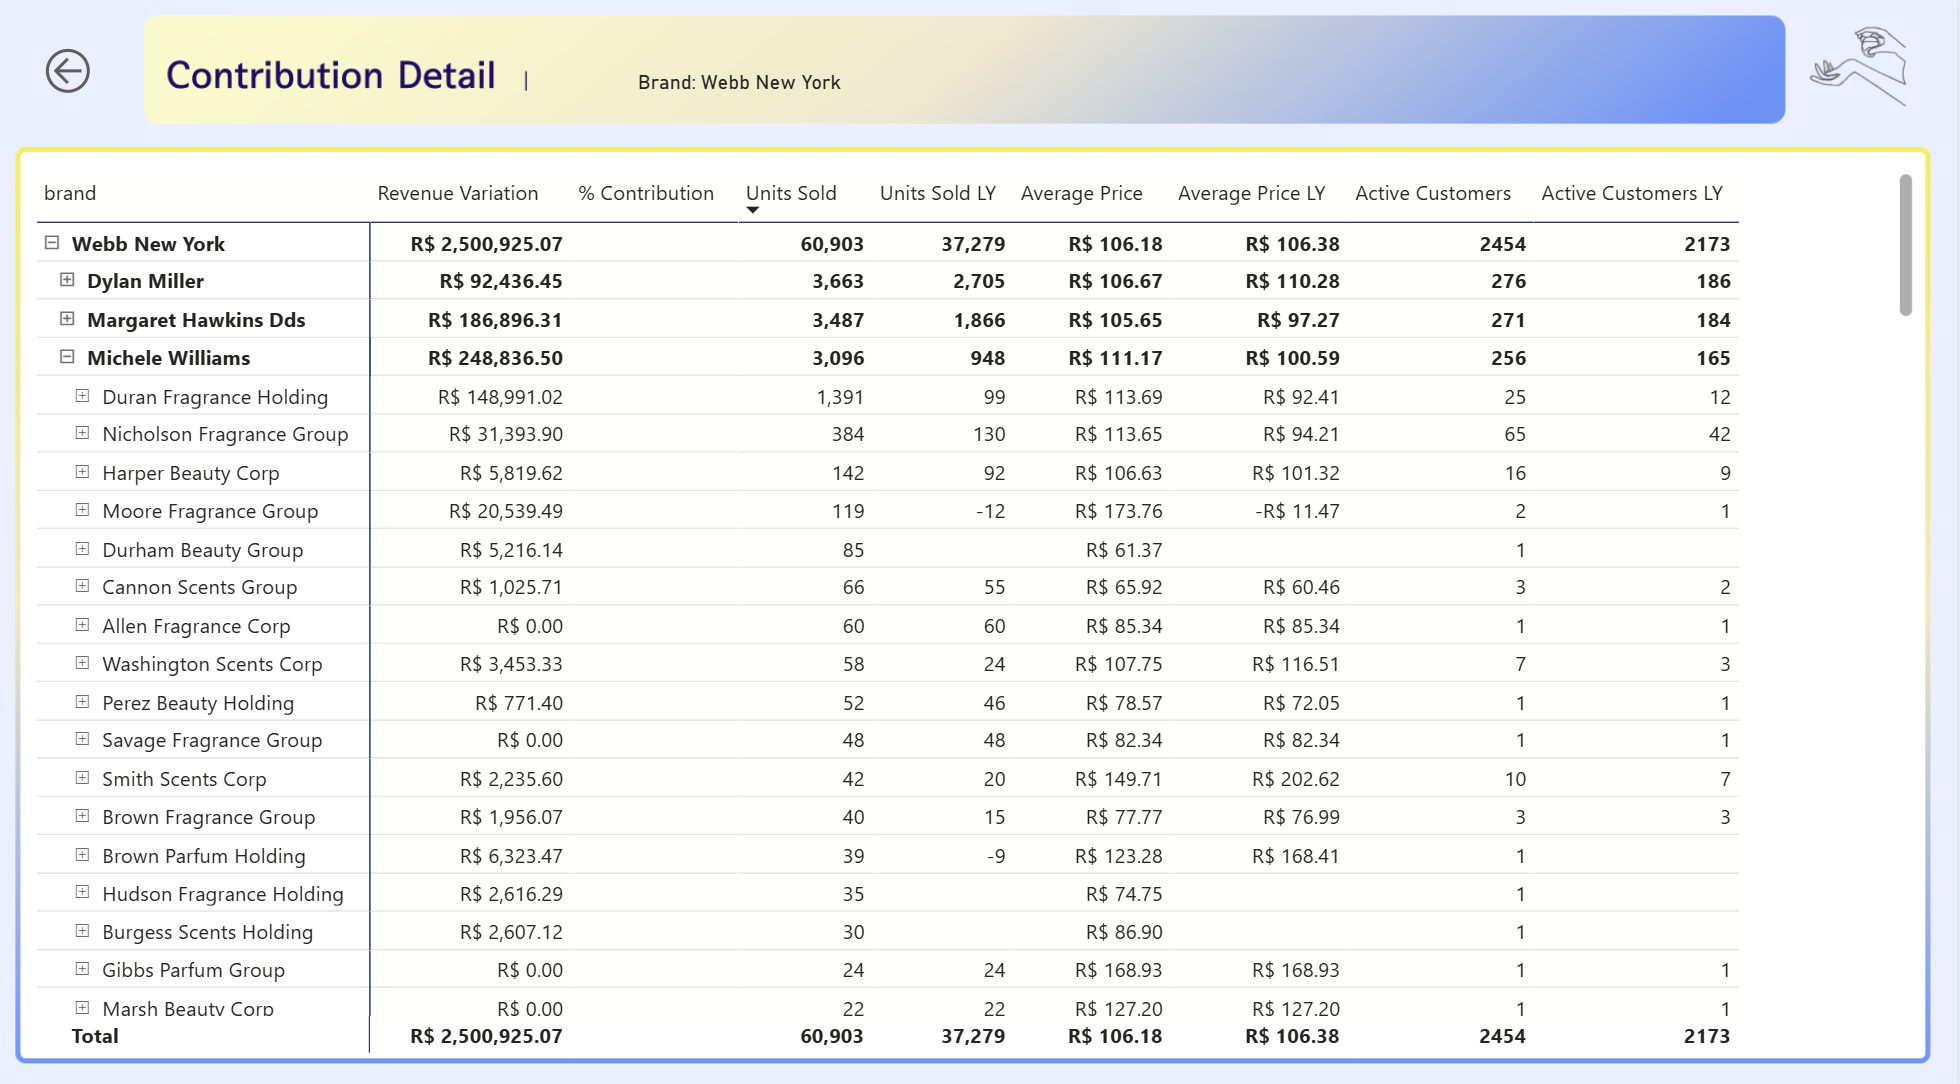

The dashboard page shown, as its layout file describes it:
{"tool":"powerbi","page":{"name":"Contribution Detail","canvas":[1280,720],"ordinal":7},"visuals":[{"type":"pivotTable","fields":{"Rows":["dim_products.brand","dim_reps.rep_name","dim_cust.cust_group","dim_cust.cust_name"],"Values":["_Medidas.Var Faturamento","_Medidas.Contribuição % (Dinâmica)","_Medidas.Qtd Itens Vendidos","_Medidas.Qtd Itens Vendidos LY","_Medidas.Preço Médio (Un)","_Medidas.$ Preço Médio LY","_Medidas.Qtd Clientes Ativos","_Medidas.Qtd Clientes Ativos LY"]},"box":[20.5,113.9,1236.1,584.8],"z":0},{"type":"actionButton","box":[26.9,32,52.5,39.7],"z":1000},{"type":"cardVisual","fields":{"Data":["_Medidas.Texto_Contexto_Drillthrough"]},"box":[345.6,37.4,277.5,36],"z":2000}]}

Visuals, with their boxes in screenshot pixels (x1, y1, x2, y2), scaled from the page's 1280x720 canvas onto the 1960x1084 screenshot:
pivotTable - dim_products.brand x dim_reps.rep_name: 31:171:1924:1052
actionButton: 41:48:122:108
cardVisual - _Medidas.Texto_Contexto_Drillthrough: 529:56:954:111
